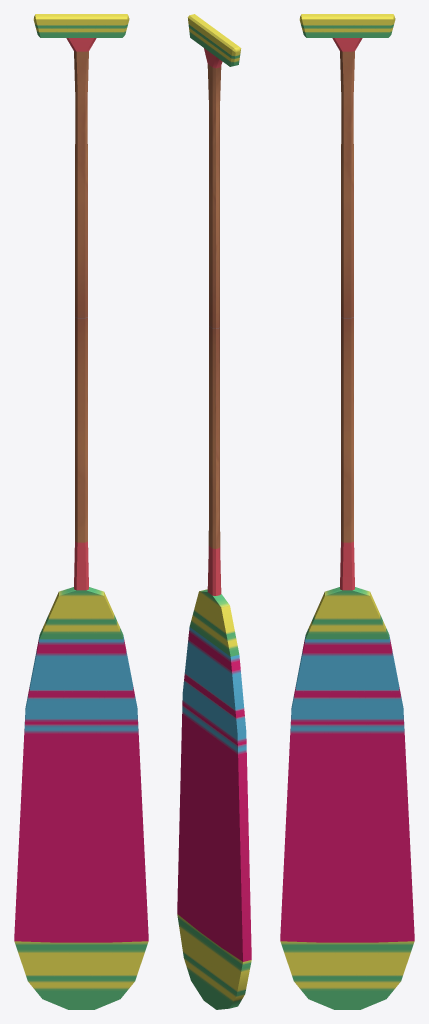
The model's file is oar-3.fbx.
3 views of the same model, side by side, from view 1: azimuth 90°, elevation 25°; view 2: azimuth 210°, elevation 25°; view 3: azimuth 270°, elevation 25° (orthographic).
Visible parts, largest first — view 1: pCube6; view 2: pCube6; view 3: pCube6.
Part boxes in pixels (x1,y1,x2,y2): pCube6: (14, 14, 148, 1009); pCube6: (177, 14, 251, 1009); pCube6: (280, 14, 414, 1009).
Size of the model in its own units: 0.4155 by 44.19 by 5.42.
1 material, 1 textured.
